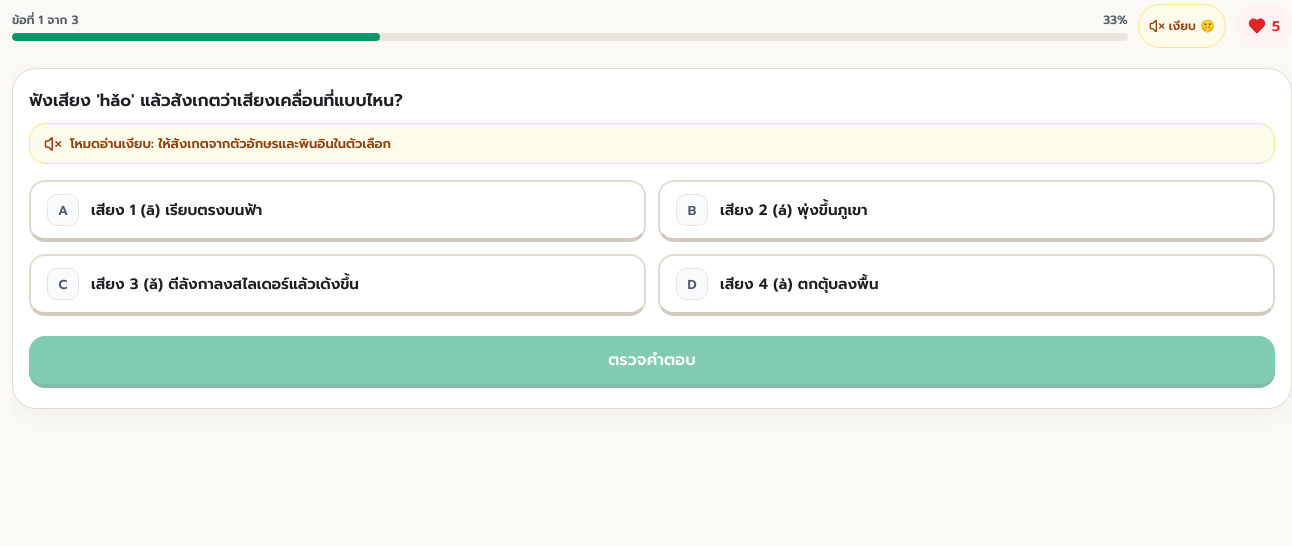
Test: QuizContainer Component (Phase 2 Slice 2.5) › Adaptive Silent Mode › adapts listen_match to visual text and mutes sound effects
Click the radio button labelled "C เสียง 3 (ǎ) ตีลังกาลงสไลเดอร์แล้วเด้งขึ้น".
click(338, 285)  # box [29,254,646,316]
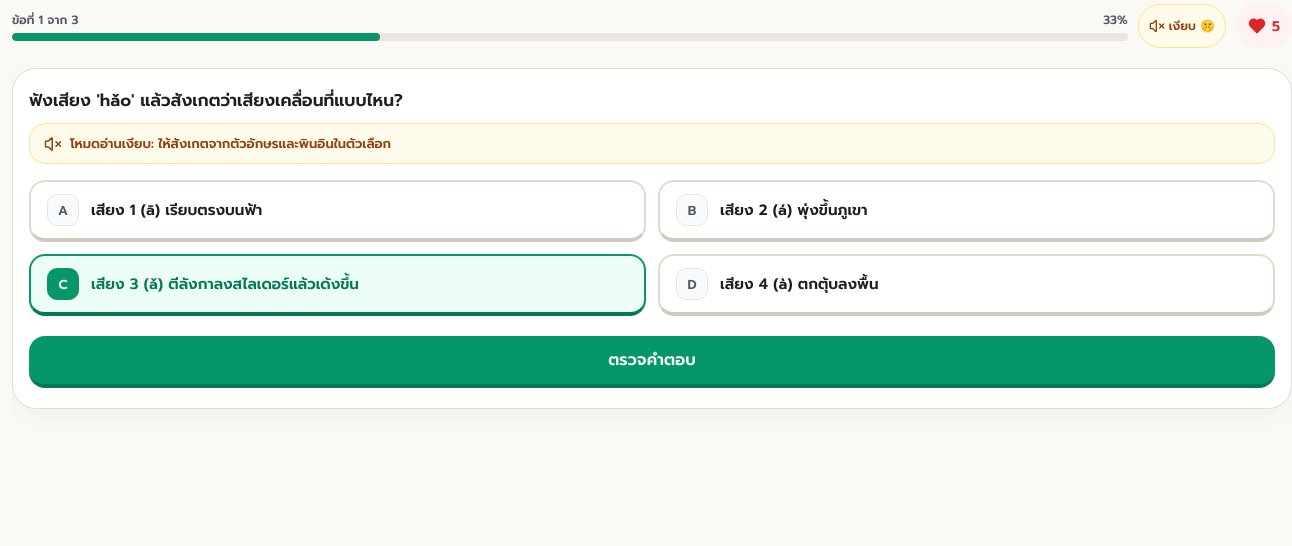
Click the button with aria-label "ตรวจคำตอบ".
click(652, 362)  # box [29,336,1275,388]
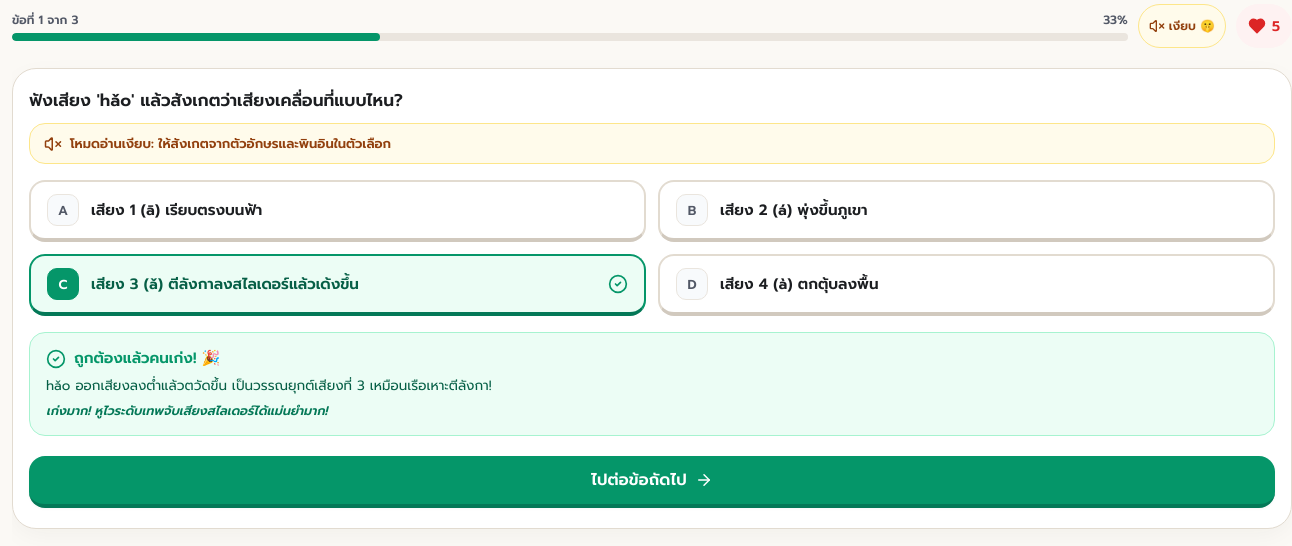
Check: the text "ถูกต้องแล้วคนเก่ง!" is shown, box [74,347,220,369]
